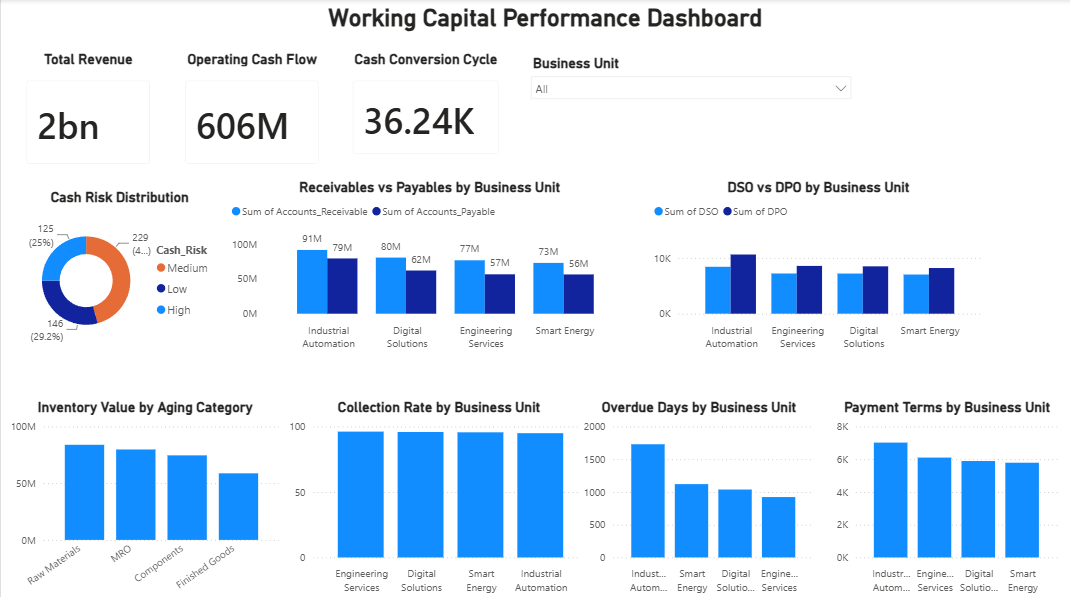

The dashboard page shown, as its layout file describes it:
{"tool":"powerbi","page":{"name":"Page 1","canvas":[1280,720],"ordinal":0},"visuals":[{"type":"cardVisual","title":"Total Revenue","fields":{"Data":["Sum(Working_Capital_Data.Revenue)"]},"box":[13.5,61.3,182.5,154.1],"z":0},{"type":"cardVisual","title":"Operating Cash Flow","fields":{"Data":["Sum(Working_Capital_Data.Operating_Cash_Flow)"]},"box":[203.4,61.3,194.4,154.1],"z":1},{"type":"cardVisual","title":"Cash Conversion Cycle","fields":{"Data":["Sum(Working_Capital_Data.Cash_Conversion_Cycle)"]},"box":[403.8,61.3,209.4,142.1],"z":2},{"type":"donutChart","title":"Cash Risk Distribution","fields":{"Category":["Working_Capital_Data.Cash_Risk"],"Y":["CountNonNull(Working_Capital_Data.Customer)"]},"box":[13.5,227.3,257.3,200.4],"z":3},{"type":"clusteredColumnChart","title":"Receivables vs Payables by Business Unit","fields":{"Category":["Working_Capital_Data.Business_Unit"],"Y":["Sum(Working_Capital_Data.Accounts_Receivable)","Sum(Working_Capital_Data.Accounts_Payable)"]},"box":[270.7,215.4,484.6,212.4],"z":4},{"type":"clusteredColumnChart","title":"DSO vs DPO by Business Unit","fields":{"Category":["Working_Capital_Data.Business_Unit"],"Y":["Sum(Working_Capital_Data.DSO)","Sum(Working_Capital_Data.DPO)"]},"box":[776.3,215.4,403.8,212.4],"z":5},{"type":"clusteredColumnChart","title":"Inventory Value by Aging Category","fields":{"Category":["Working_Capital_Data.Inventory_Category"],"Y":["Sum(Working_Capital_Data.Inventory_Value)"]},"box":[6,478.6,333.5,240.8],"z":6},{"type":"clusteredColumnChart","title":"Collection Rate by Business Unit","fields":{"Category":["Working_Capital_Data.Business_Unit"],"Y":["Avg(Working_Capital_Data.Collection_Rate_Pct)"]},"box":[339.5,478.6,369.4,240.8],"z":7},{"type":"clusteredColumnChart","title":"Overdue Days by Business Unit","fields":{"Category":["Working_Capital_Data.Business_Unit"],"Y":["Sum(Working_Capital_Data.Overdue_Days)"]},"box":[692.5,478.6,285.7,240.8],"z":8},{"type":"clusteredColumnChart","title":"Payment Terms by Business Unit","fields":{"Category":["Working_Capital_Data.Business_Unit"],"Y":["Sum(Working_Capital_Data.Payment_Terms_Days)"]},"box":[994.6,478.6,275.2,240.8],"z":9},{"type":"textbox","box":[370.9,0,560.9,52.3],"z":10},{"type":"slicer","fields":{"Values":["Working_Capital_Data.Business_Unit"]},"box":[623.7,61.3,403.8,80.8],"z":11}]}

Visuals, with their boxes in screenshot pixels (x1, y1, x2, y2), scaled from the page's 1280x720 canvas onto the 1070x597 screenshot:
"Total Revenue" cardVisual: l=11, t=51, r=164, b=179
"Operating Cash Flow" cardVisual: l=170, t=51, r=333, b=179
"Cash Conversion Cycle" cardVisual: l=338, t=51, r=513, b=169
"Cash Risk Distribution" donutChart: l=11, t=188, r=226, b=355
"Receivables vs Payables by Business Unit" clusteredColumnChart: l=226, t=179, r=631, b=355
"DSO vs DPO by Business Unit" clusteredColumnChart: l=649, t=179, r=986, b=355
"Inventory Value by Aging Category" clusteredColumnChart: l=5, t=397, r=284, b=596
"Collection Rate by Business Unit" clusteredColumnChart: l=284, t=397, r=593, b=596
"Overdue Days by Business Unit" clusteredColumnChart: l=579, t=397, r=818, b=596
"Payment Terms by Business Unit" clusteredColumnChart: l=831, t=397, r=1061, b=596
textbox: l=310, t=0, r=779, b=43
slicer - Working_Capital_Data.Business_Unit: l=521, t=51, r=859, b=118
